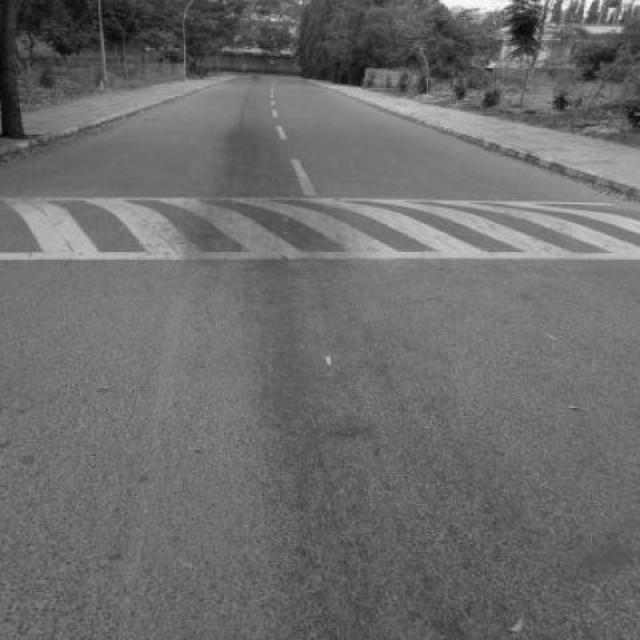Speed Bump: (0, 193, 639, 268)
